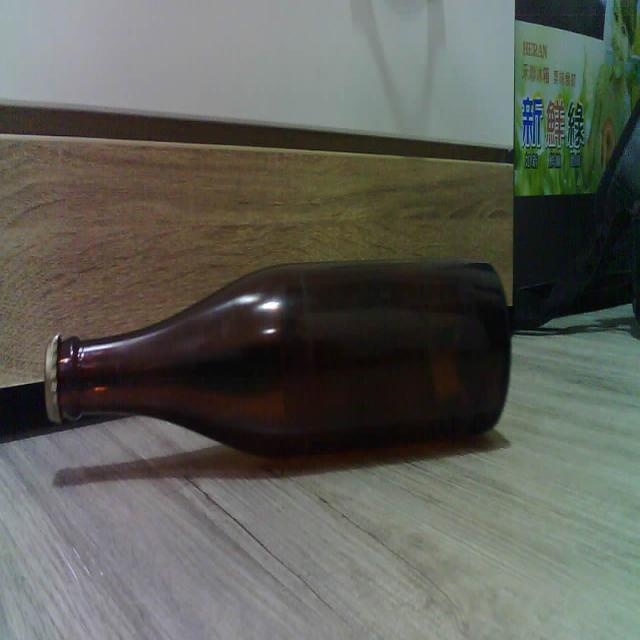bottle: (43, 259, 511, 454)
